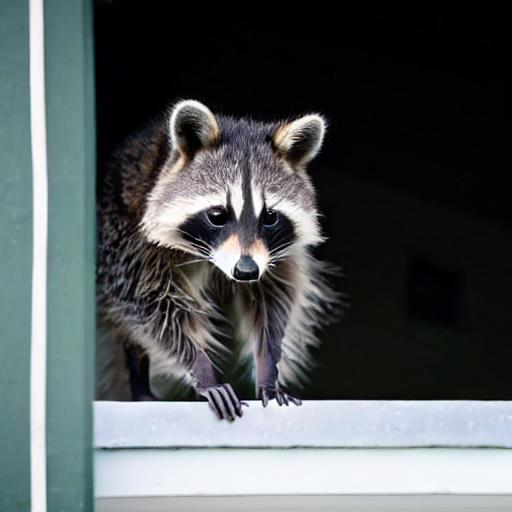raccoon: (99, 95, 337, 395)
